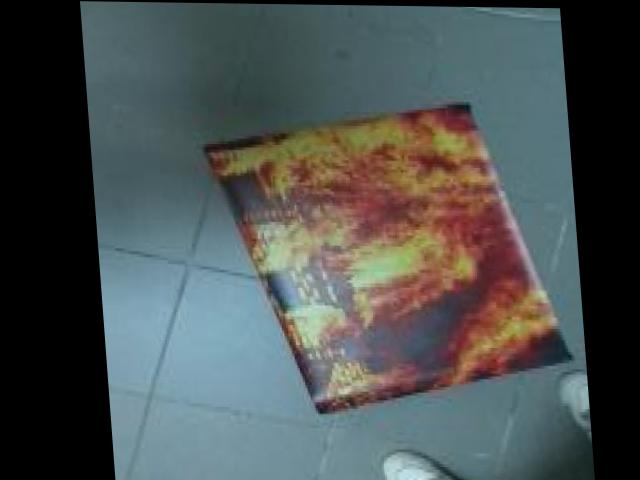fire-poster: (197, 91, 574, 421)
